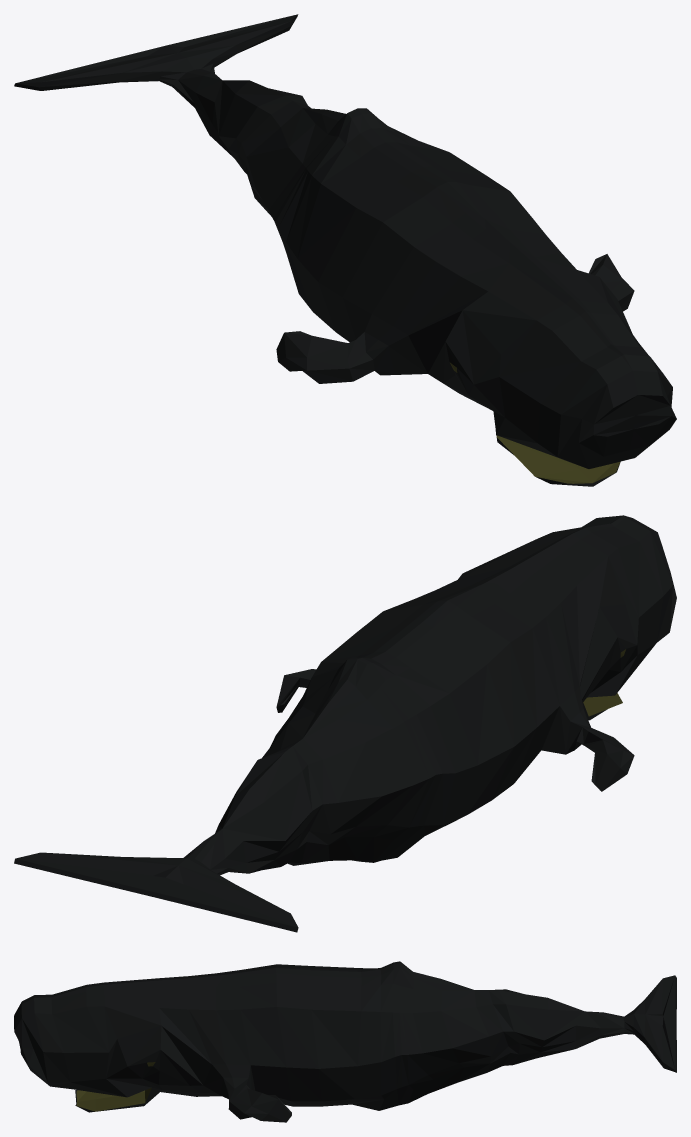
The model's file is whale.obj.
3 views of the same model, one above another, from view 1: azimuth 30°, elevation 25°; view 2: azimuth 150°, elevation 25°; view 3: azimuth 270°, elevation 25° (orthographic). The views are drawn at different scales.
Visible parts, largest first — view 1: Cube; view 2: Cube; view 3: Cube.
Part boxes in pixels (<box>): Cube: <box>14,14,676,486</box>; Cube: <box>14,515,676,932</box>; Cube: <box>14,961,676,1122</box>.
Bounding box in the file's own units: 3.71 × 2.17 × 9.2.
